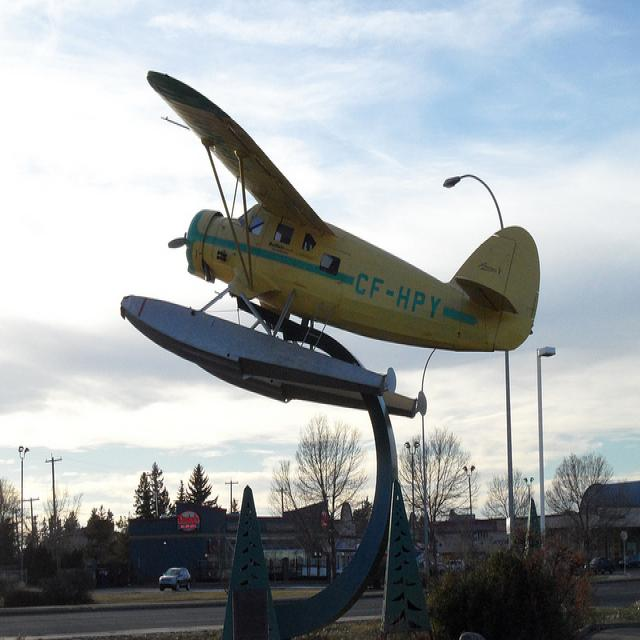Vehicle: (159, 567, 192, 591), (591, 558, 616, 576), (429, 562, 446, 576)
